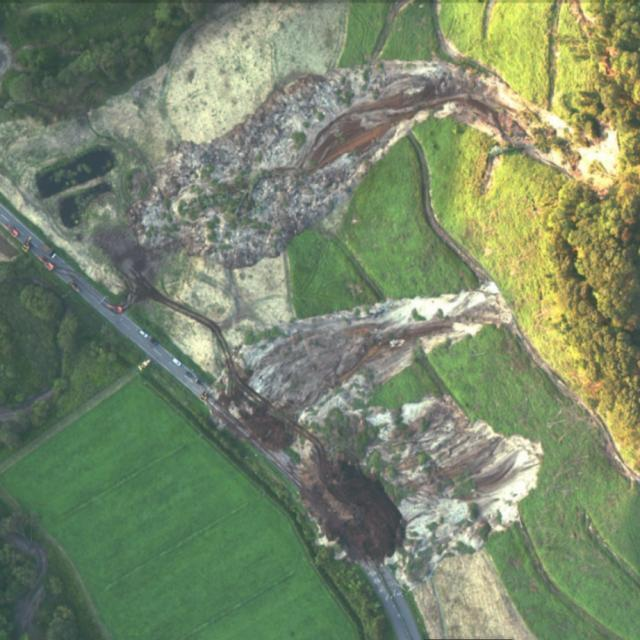landslide: (0, 1, 350, 345), (131, 29, 621, 265), (241, 282, 544, 588), (131, 60, 571, 267), (163, 2, 347, 137), (149, 251, 294, 347), (140, 303, 222, 376), (233, 252, 295, 328)
